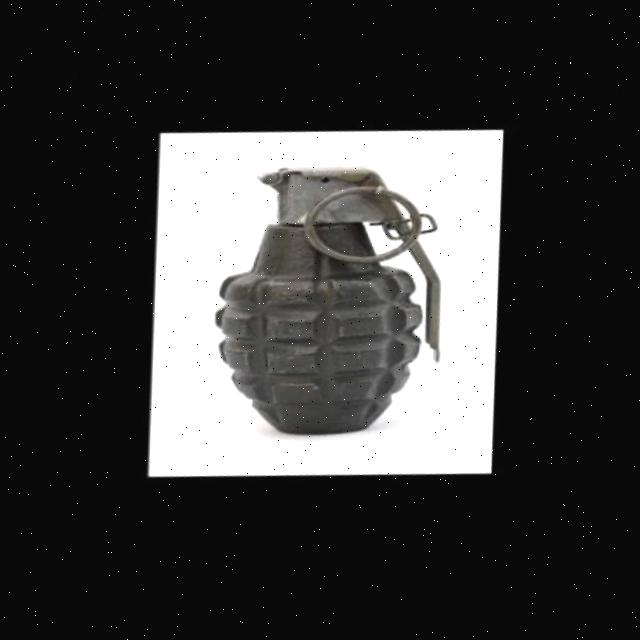grenade: (151, 119, 503, 493)
